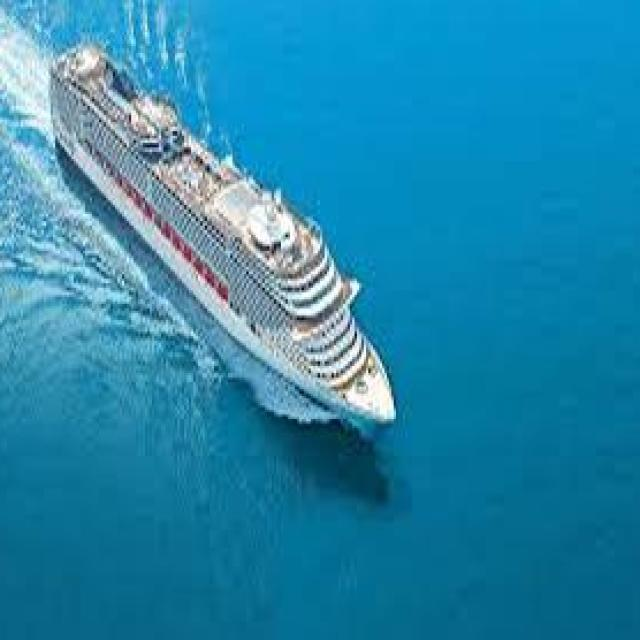passenger ship: (51, 38, 413, 427)
